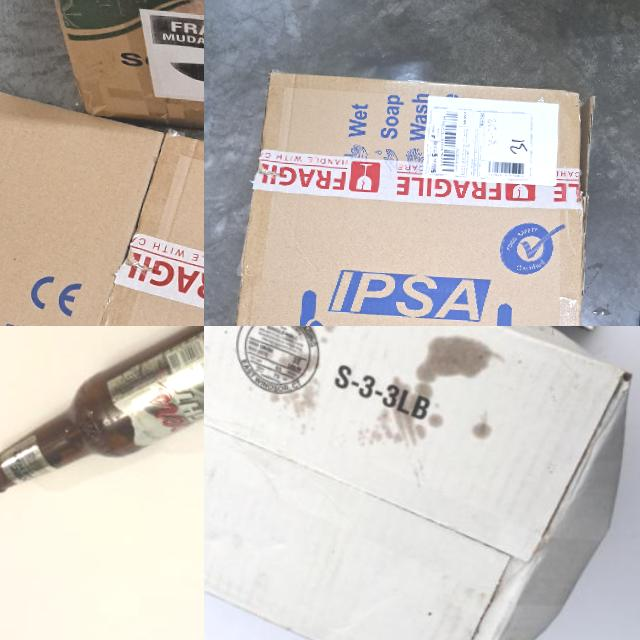garrafa de vidro: (0, 326, 204, 511)
papelão: (204, 326, 640, 640), (204, 56, 613, 326), (0, 86, 204, 326), (36, 0, 204, 150)
